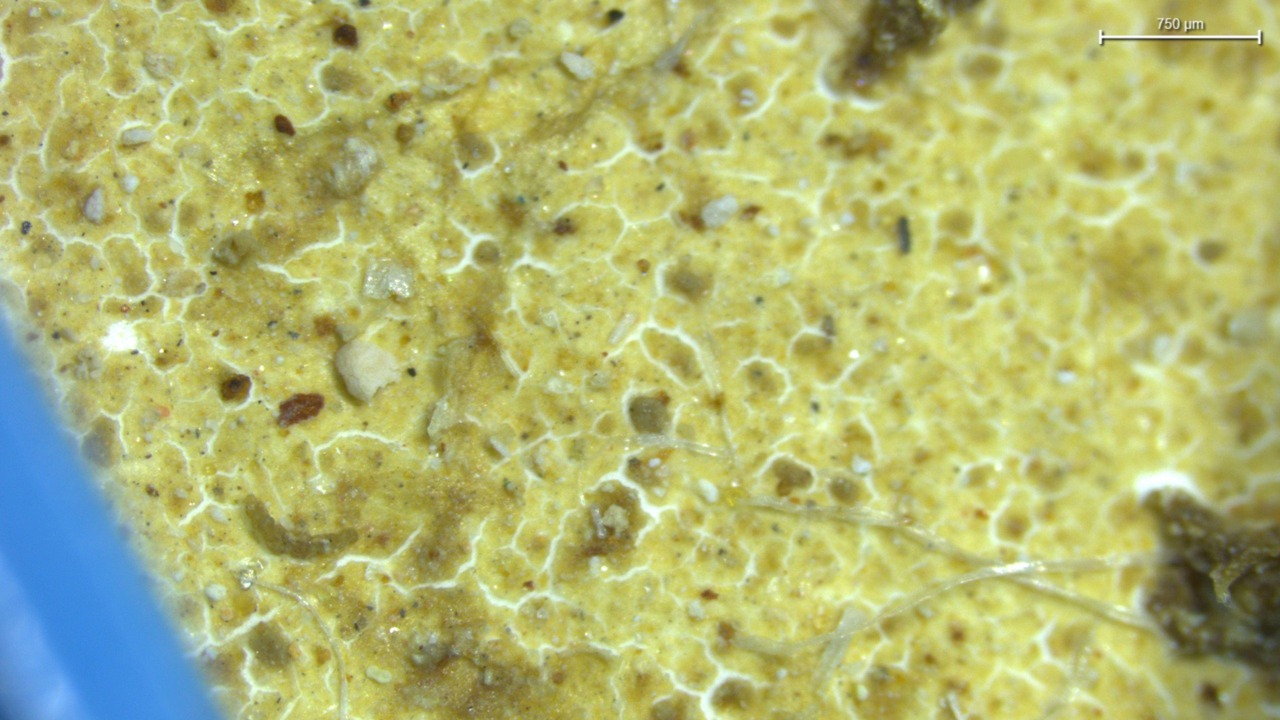microplastic_fragment: (335, 340, 399, 402), (560, 51, 595, 80)
